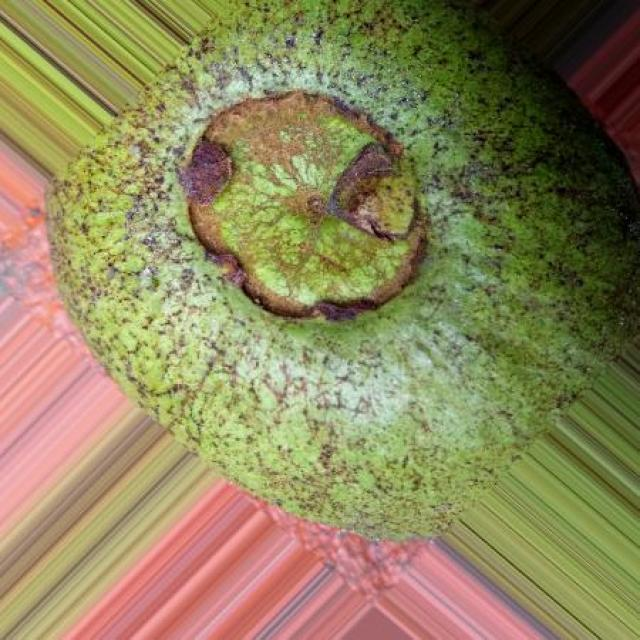Scab: (49, 0, 640, 538)
